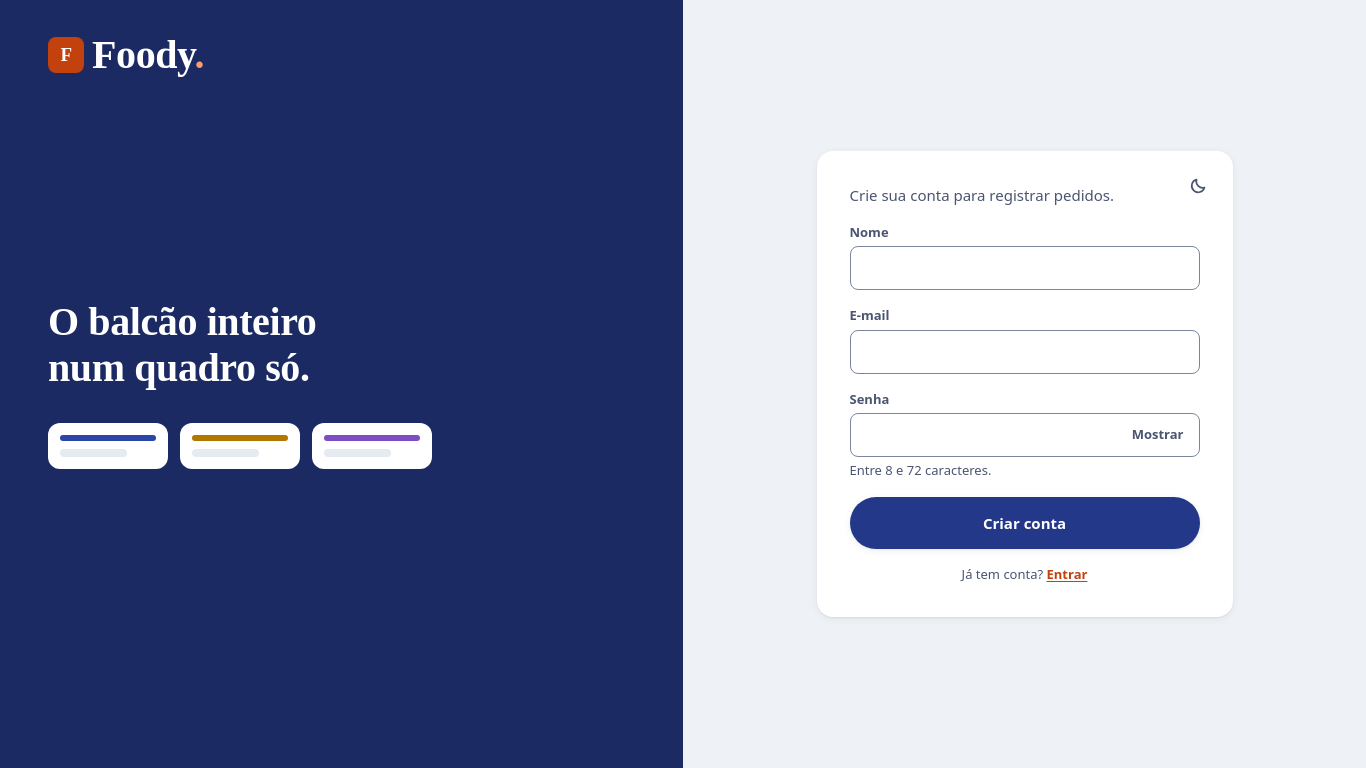
Test case: cadastro de usuário › cria a conta, entra automaticamente e abre o quadro
Type "  Rodrigo Andrade  " into the field labelled "Nome" at (1024, 268), box x1=850 y1=246 x2=1200 y2=290
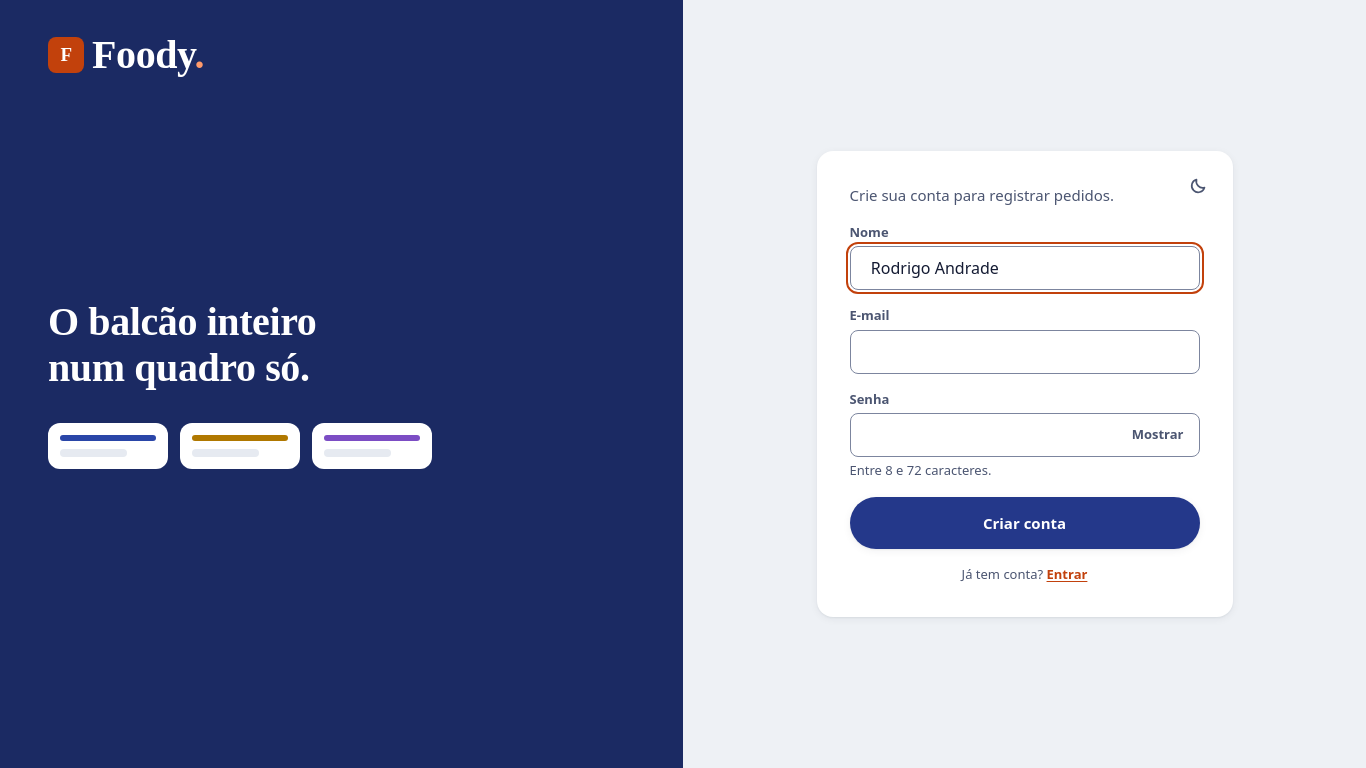
Type "  rodrigo@foody.dev  " into the field labelled "E-mail" at (1024, 352), box x1=850 y1=330 x2=1200 y2=374
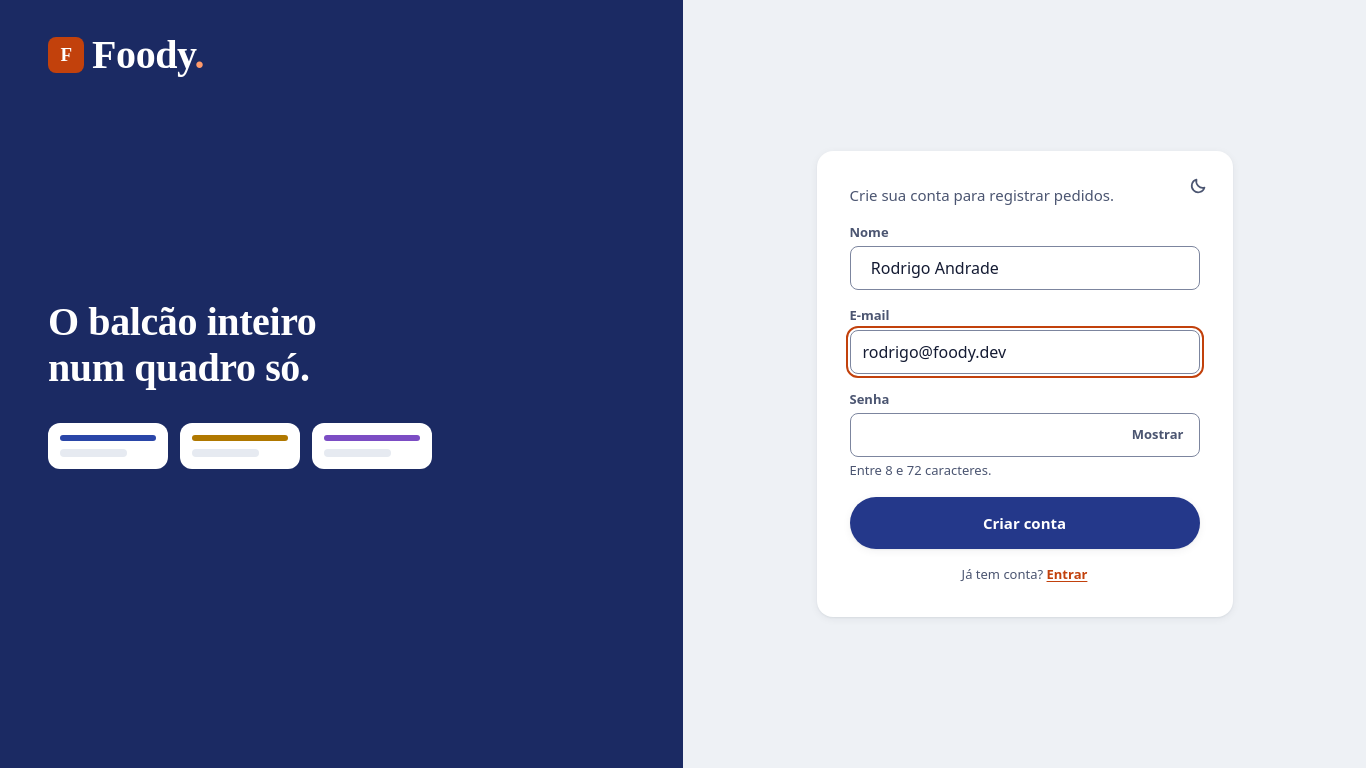
Type "senha-forte-123" into the password field labelled "Senha" at (1024, 435), box x1=850 y1=413 x2=1200 y2=457
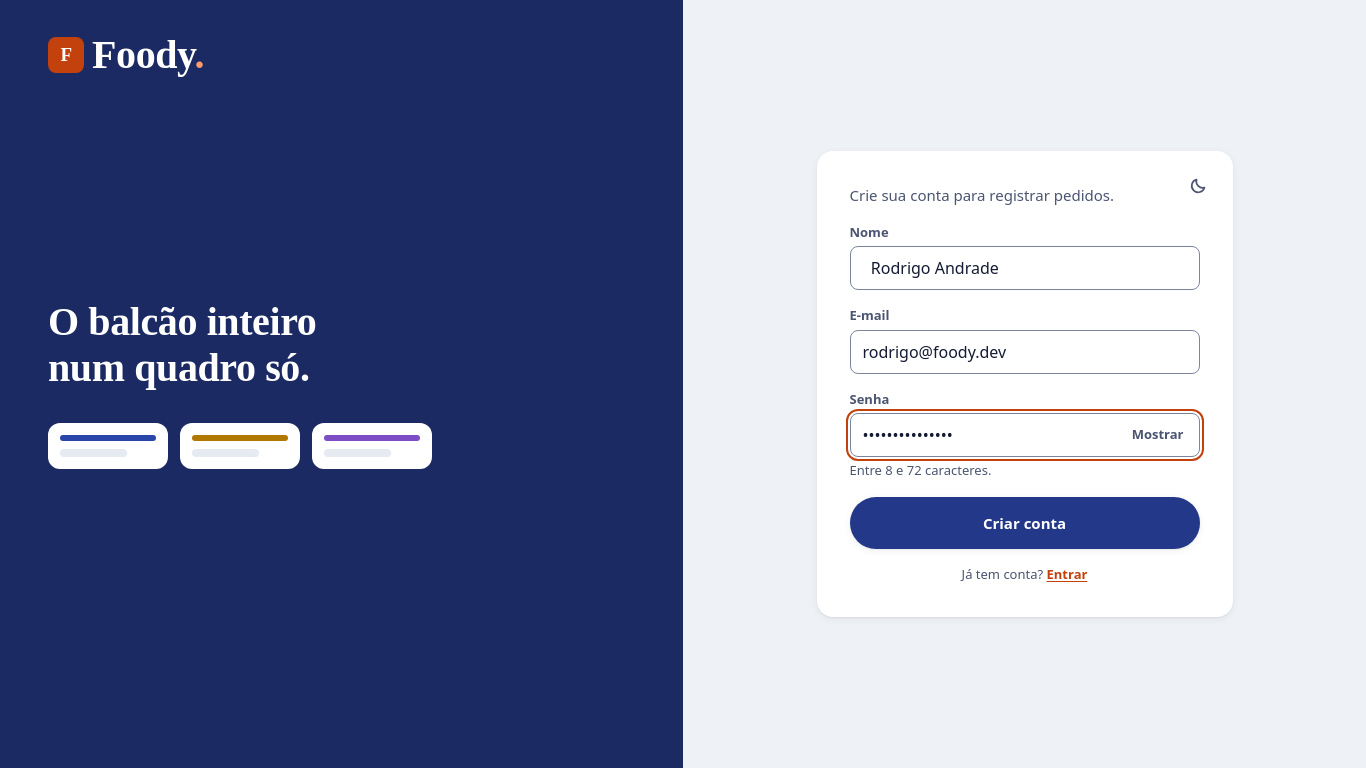
Click the button "Criar conta" at (1024, 522), box x1=850 y1=496 x2=1200 y2=548
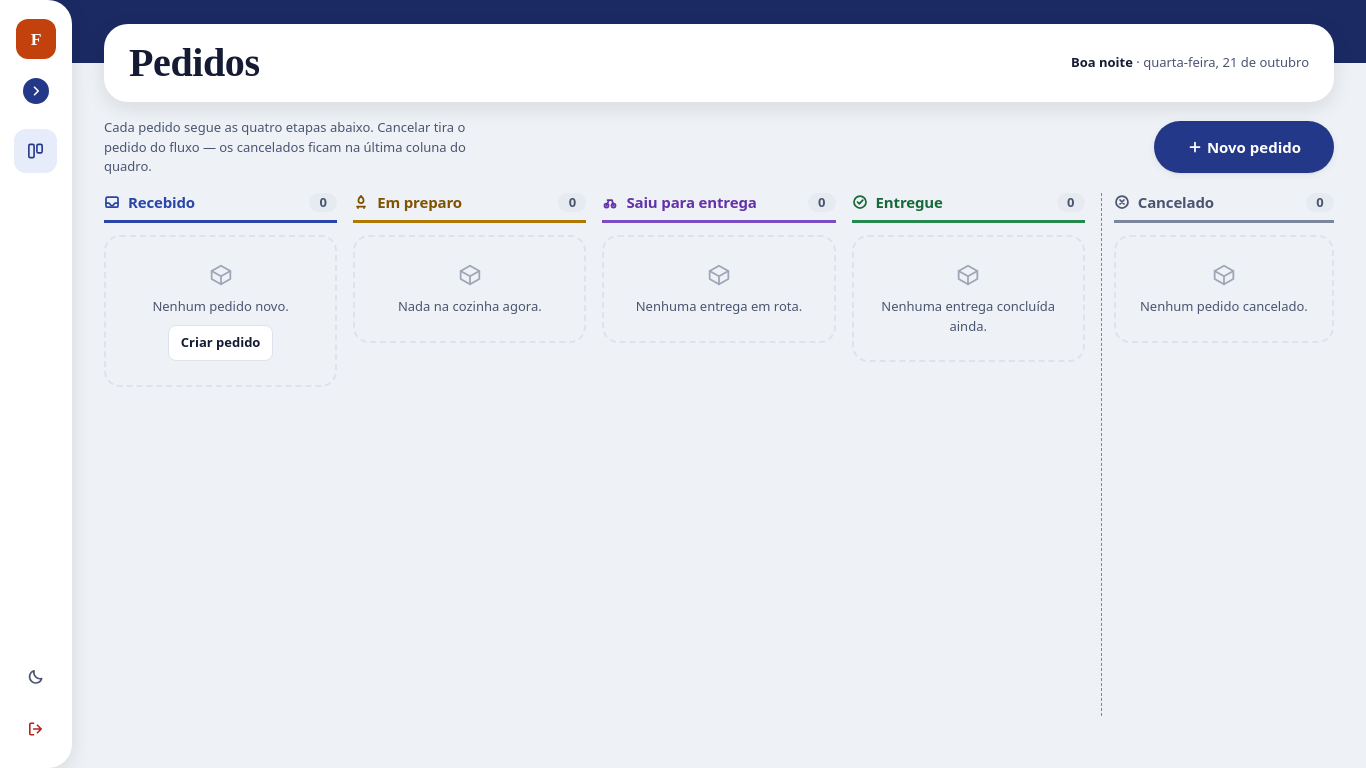
Expected: the heading "Pedidos" is shown, x1=129 y1=41 x2=260 y2=85
